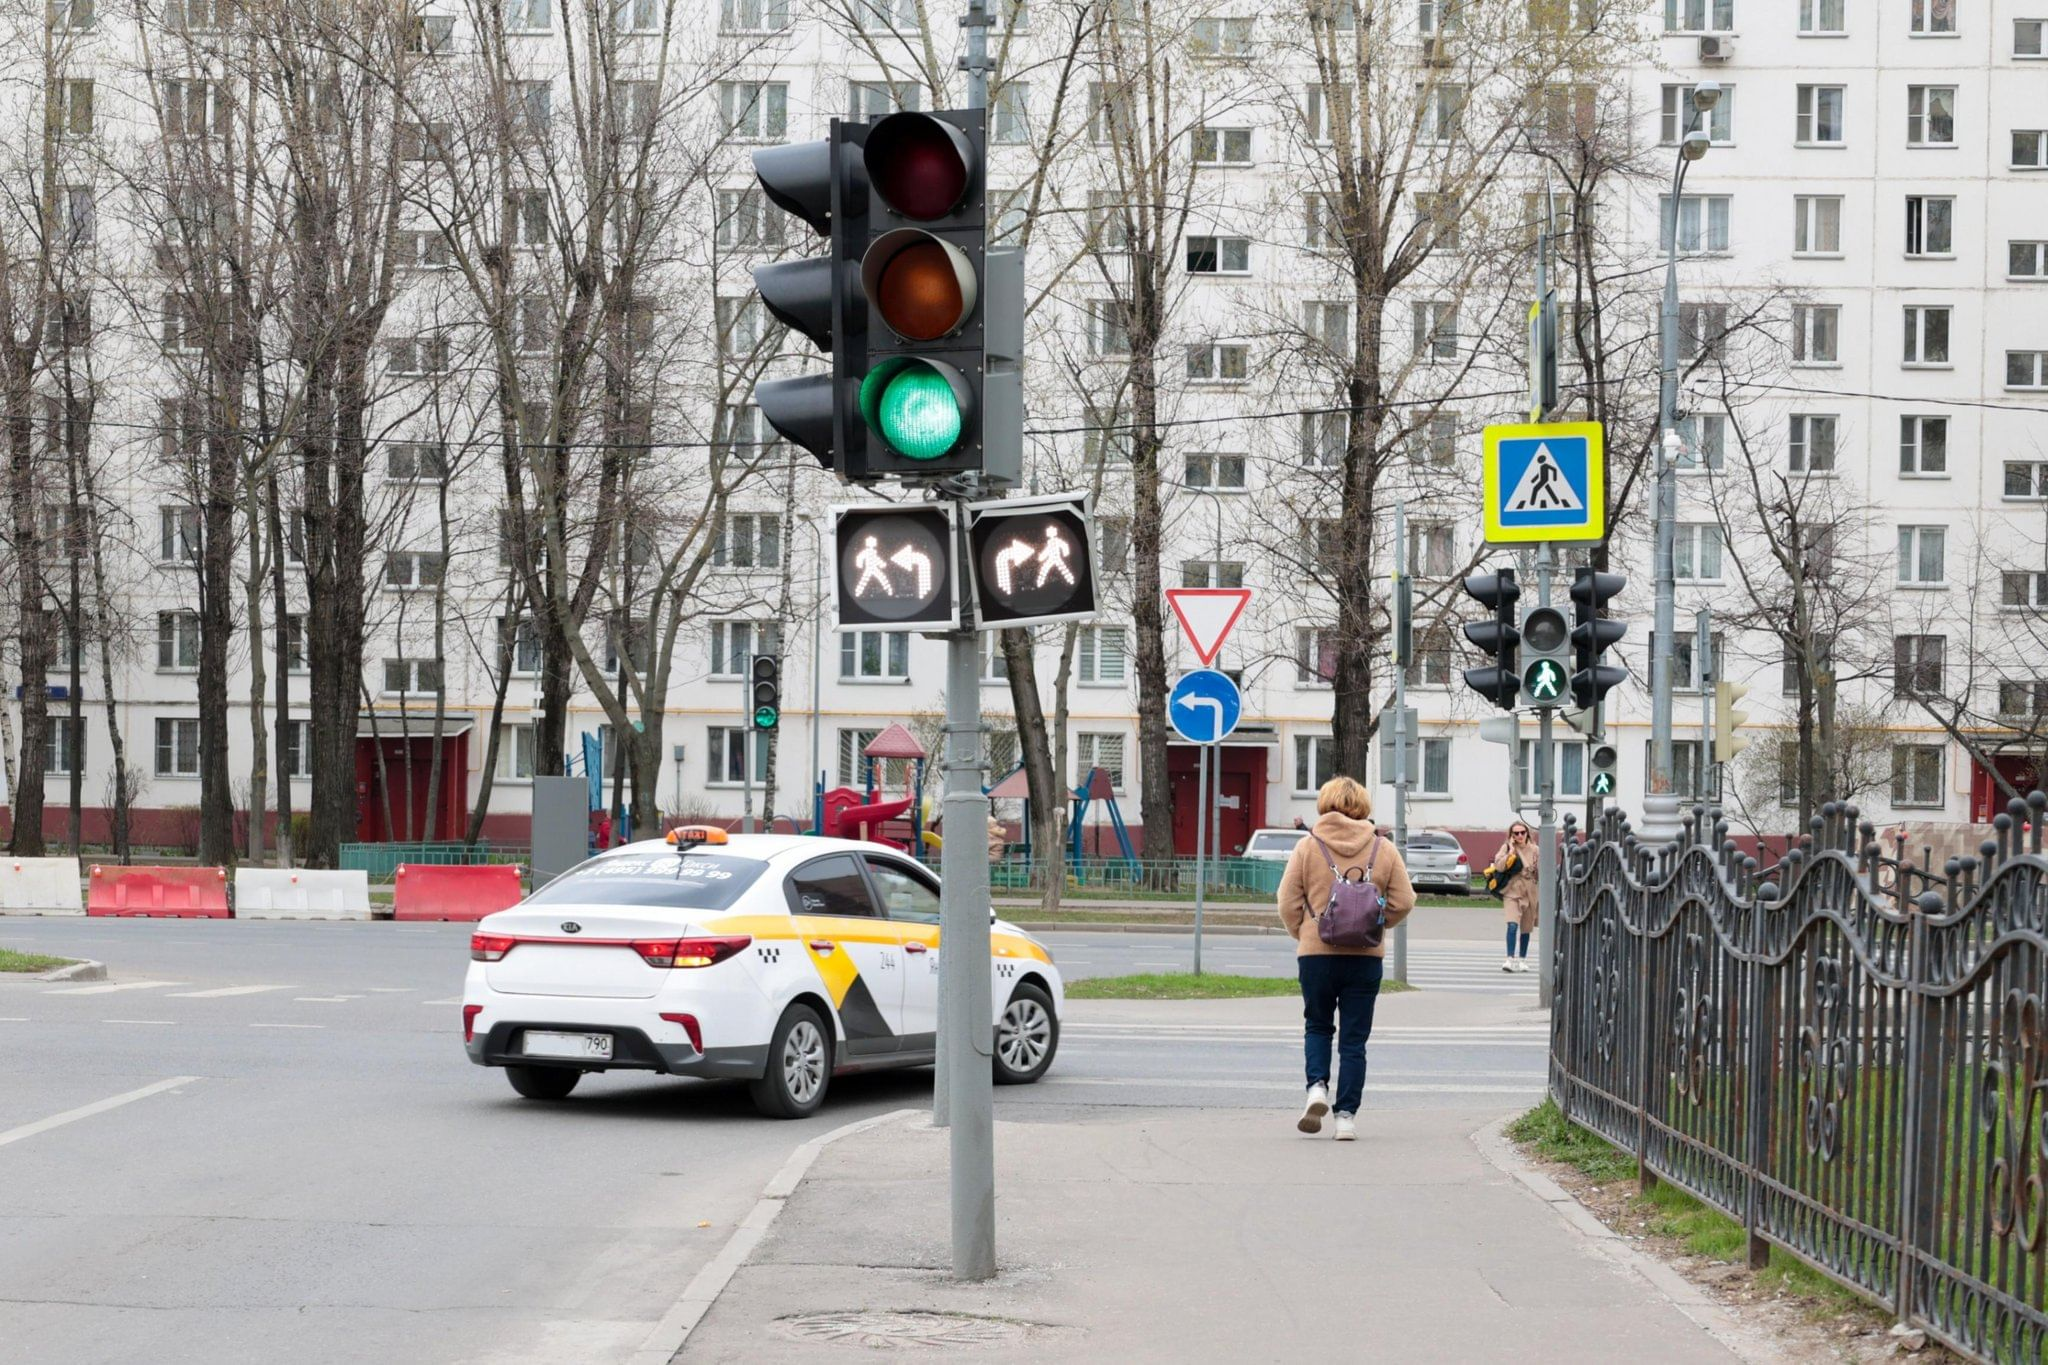tl: (795, 117, 1013, 471)
